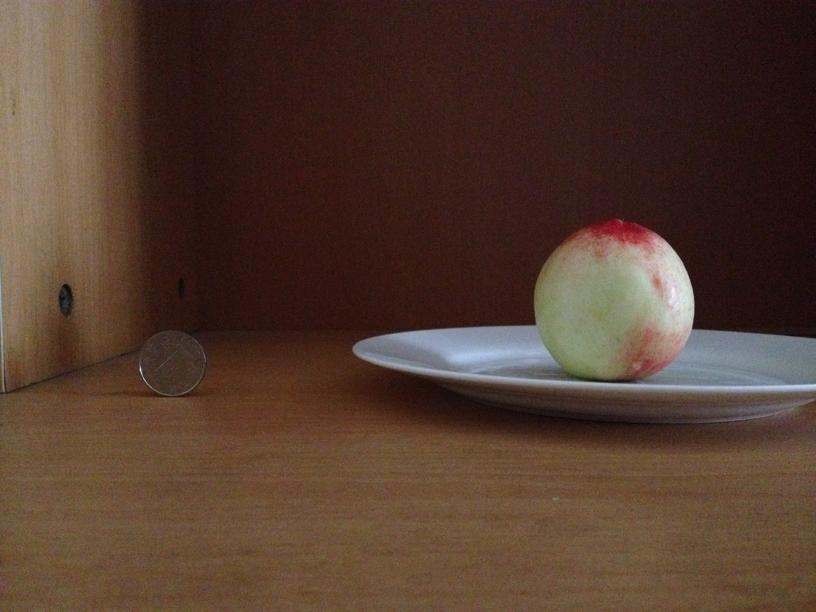coin: (135, 326, 209, 397)
peach: (535, 215, 695, 381)
